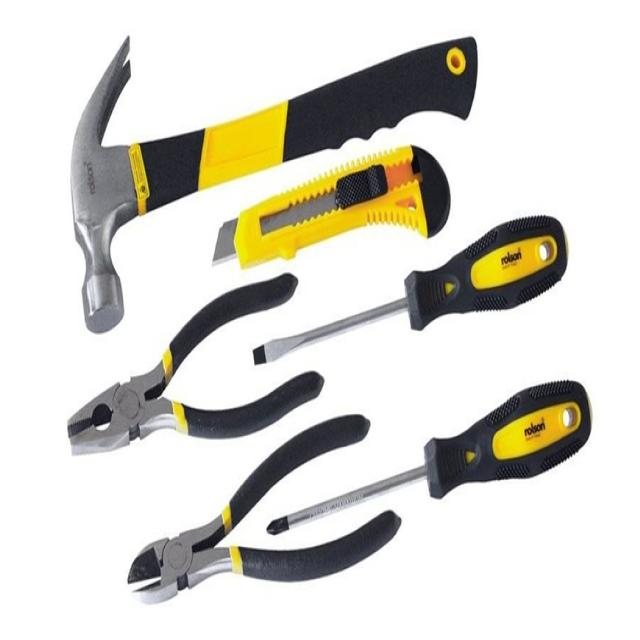Screwdriver: (268, 382, 591, 533), (254, 216, 568, 364)
